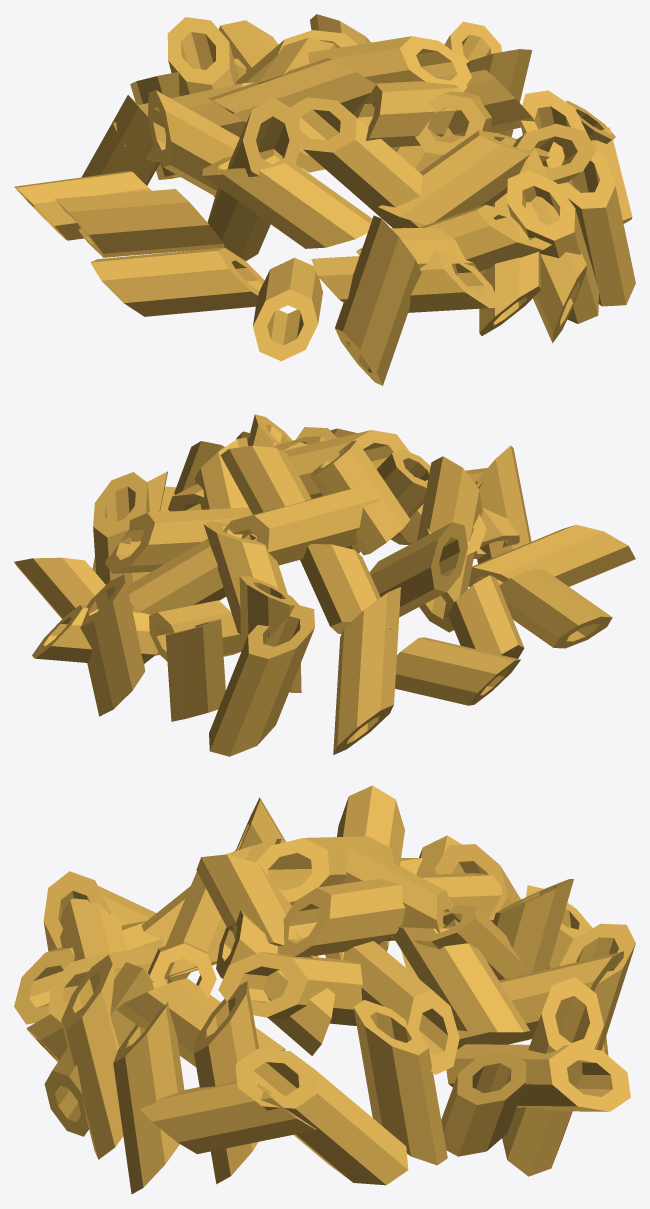
File: Pasta.fbx
The picture shows the model from 3 angles, top to bottom: view 1: azimuth 30°, elevation 25°; view 2: azimuth 150°, elevation 25°; view 3: azimuth 270°, elevation 25°; orthographic projection. The views are drawn at different scales.
Visible parts, largest first — view 1: Pasta; view 2: Pasta; view 3: Pasta.
Boxes of the visible parts, bbox=[...] form: Pasta: bbox=[14, 14, 635, 385]; Pasta: bbox=[14, 414, 635, 756]; Pasta: bbox=[14, 785, 635, 1193].
Size of the model in its own units: 0.153 by 0.0668 by 0.1482.
